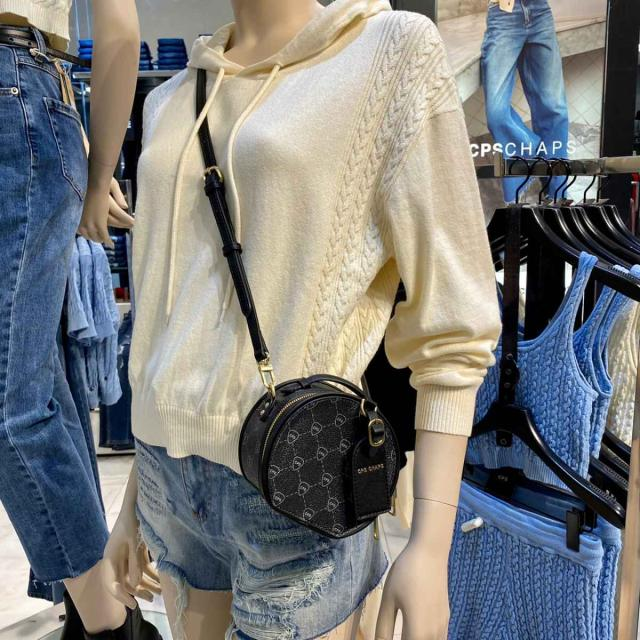handbag: (215, 351, 419, 542)
